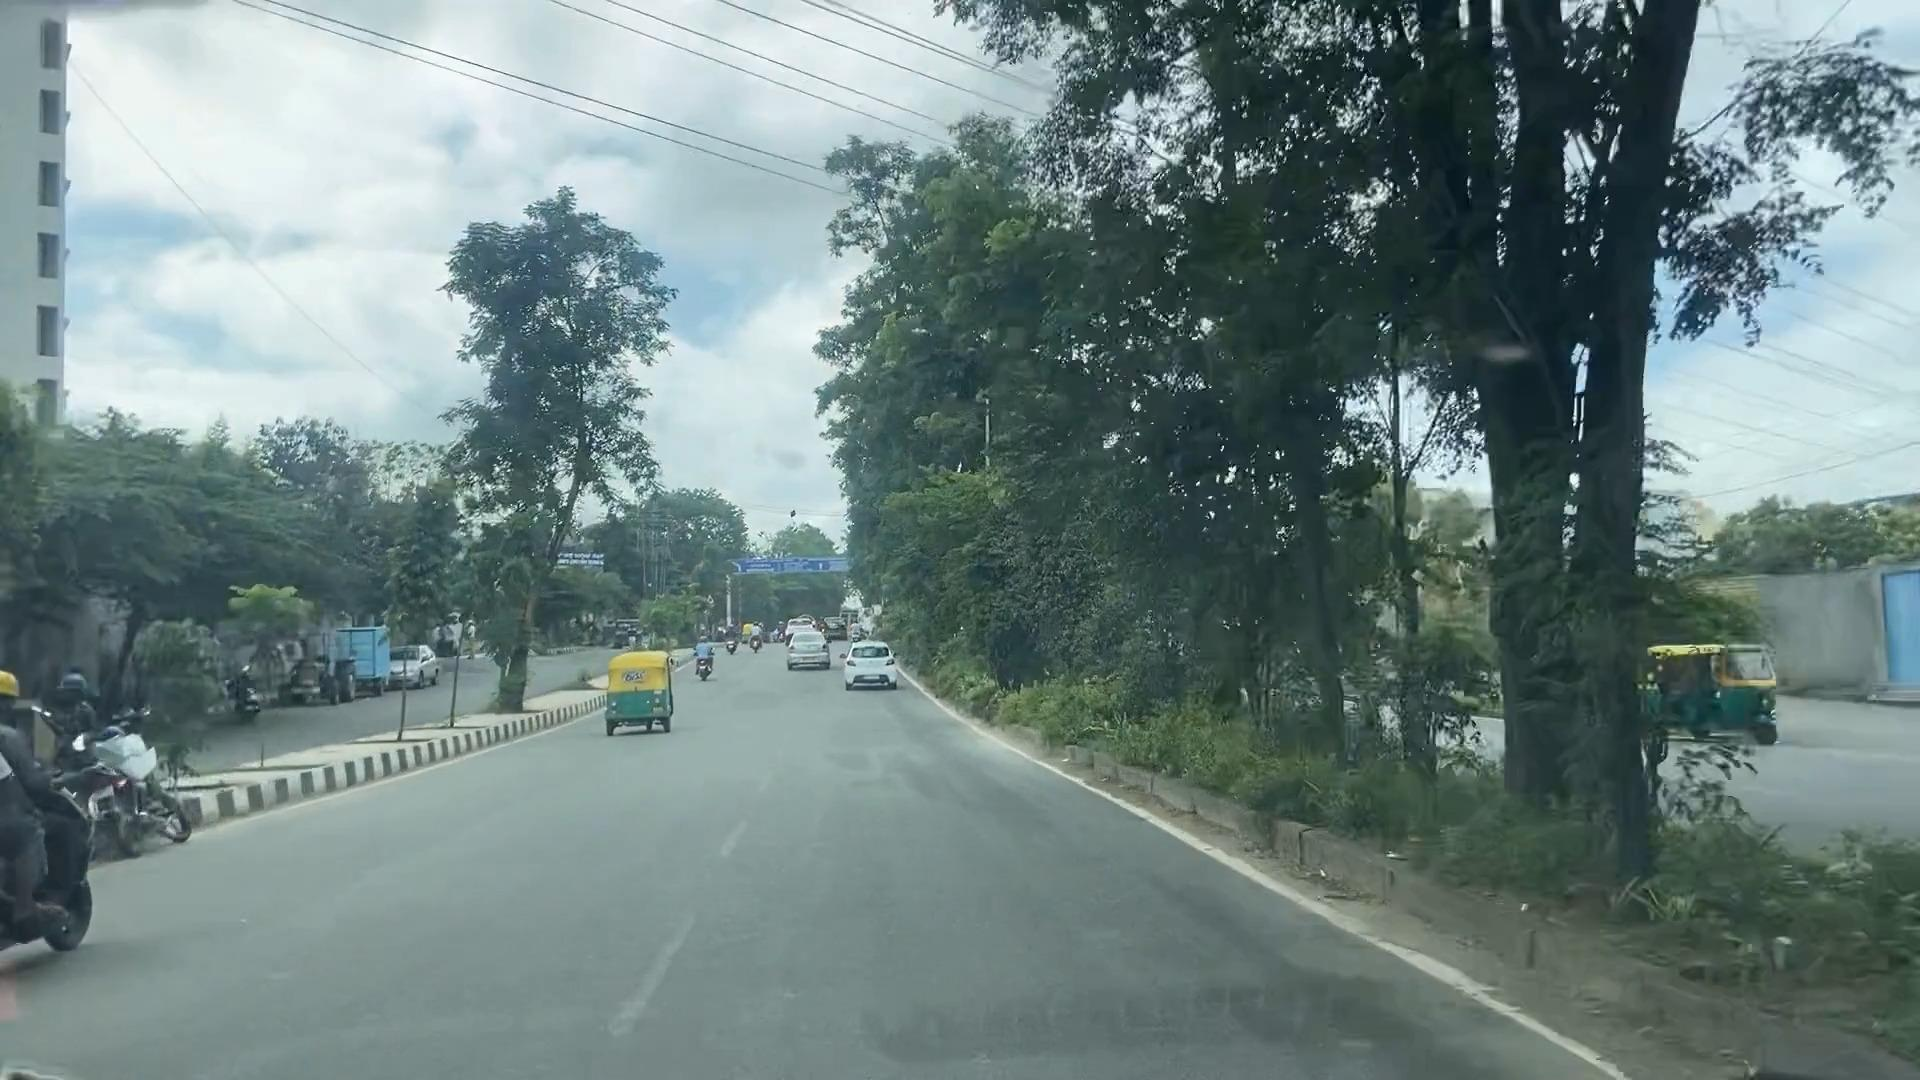LMV: (608, 650, 678, 725), (844, 644, 898, 688), (789, 626, 829, 669)
